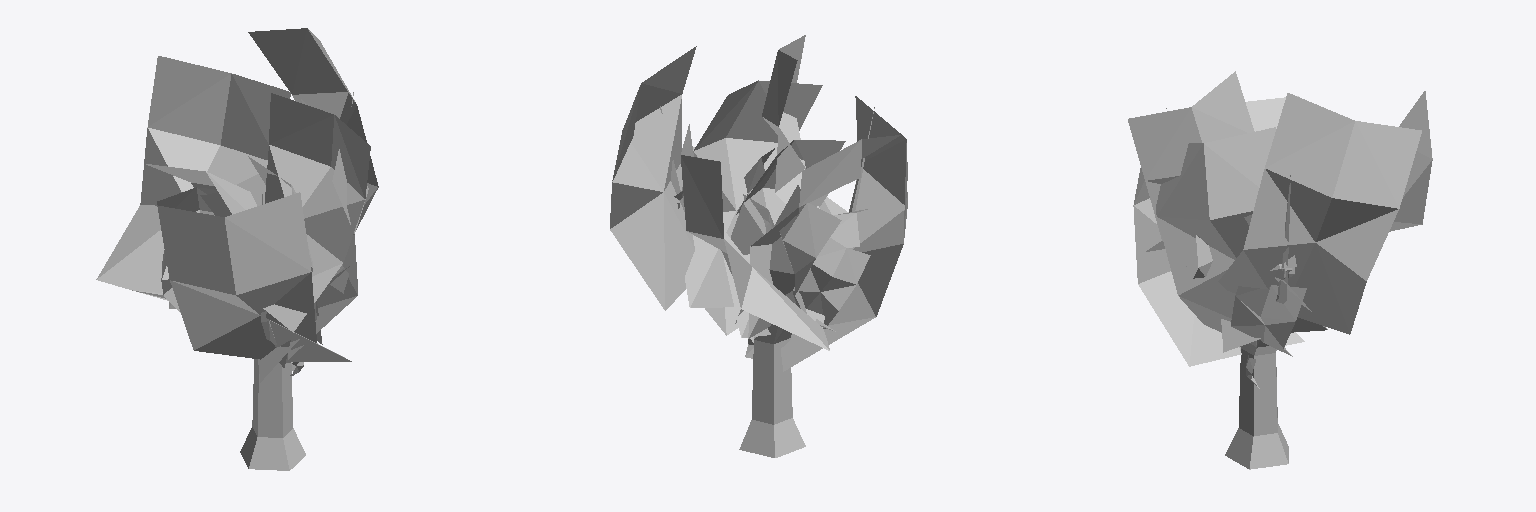
Rendered from Arbol_2.obj.
3 views of the same model, side by side, from view 1: azimuth 30°, elevation 25°; view 2: azimuth 150°, elevation 25°; view 3: azimuth 270°, elevation 25° (orthographic).
Visible parts, largest first — view 1: Arbol13; view 2: Arbol13; view 3: Arbol13.
Boxes of the visible parts, <box> form: Arbol13: <box>96,28,378,470</box>; Arbol13: <box>610,35,907,457</box>; Arbol13: <box>1128,71,1432,469</box>.
Bounding box in the file's own units: 11 × 17.31 × 12.19.